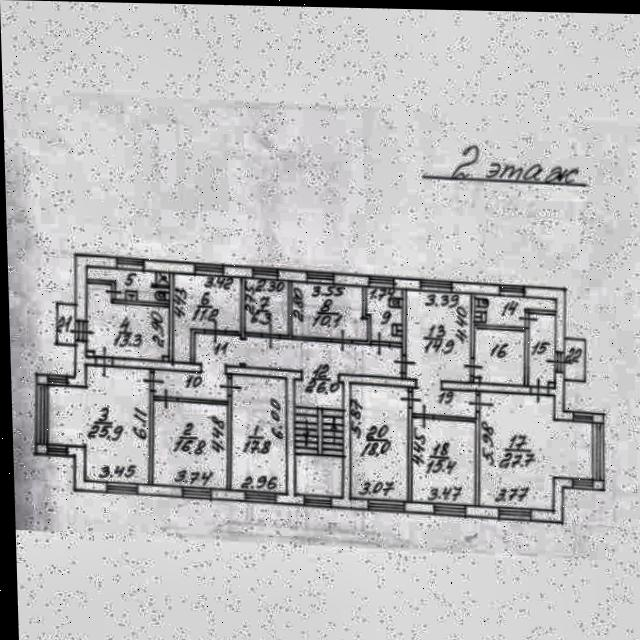room: (148, 327, 406, 499), (481, 388, 595, 506), (48, 364, 152, 484), (407, 287, 477, 416), (85, 282, 174, 360), (352, 380, 410, 499), (155, 398, 230, 488), (234, 372, 289, 492), (174, 272, 243, 363), (414, 413, 477, 503), (290, 280, 373, 339), (86, 266, 173, 302), (475, 291, 558, 326), (476, 324, 526, 382), (247, 275, 290, 334), (530, 309, 557, 384), (368, 285, 404, 340), (566, 335, 586, 377), (60, 303, 77, 343), (158, 270, 171, 284)
